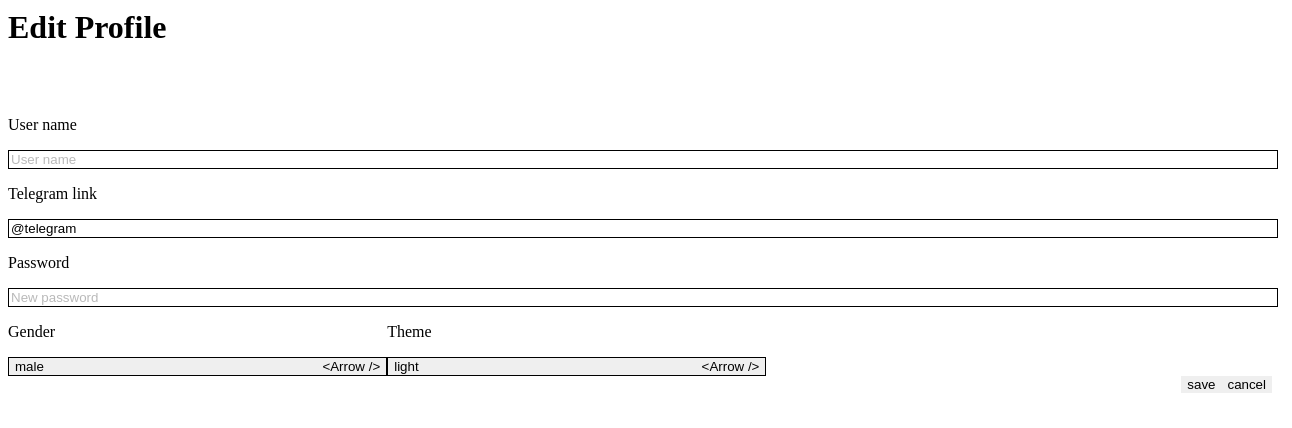
Test: Edit profile form test › Test empty user name
The width and height of the screenshot is (1292, 428).
Click the button "save" at (1201, 384), box [1181,376,1222,393]
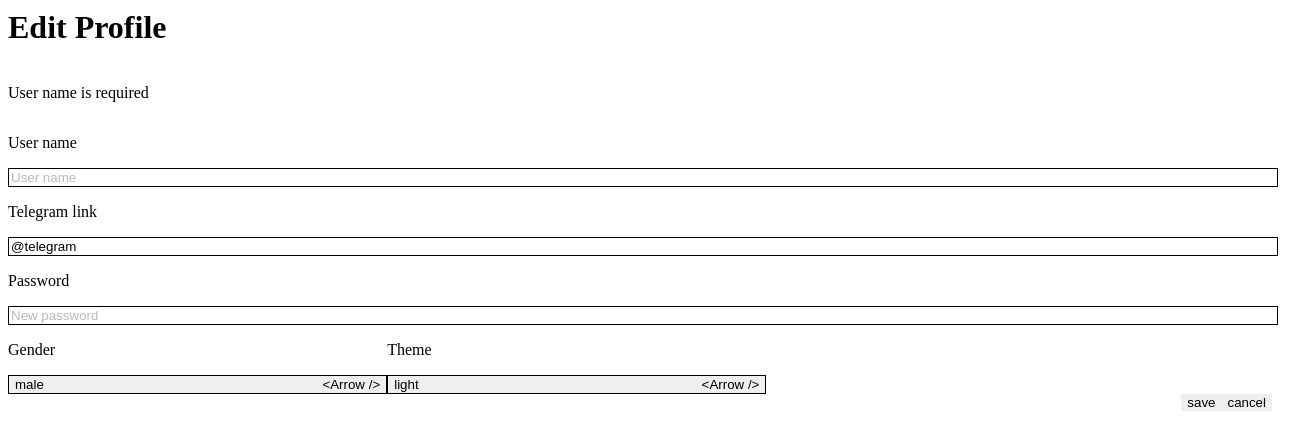
Check: the text "User name is required" is shown, box [8,84,149,101]
